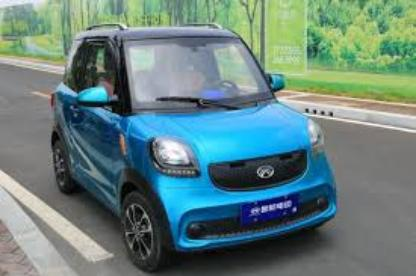car: (46, 17, 342, 274)
